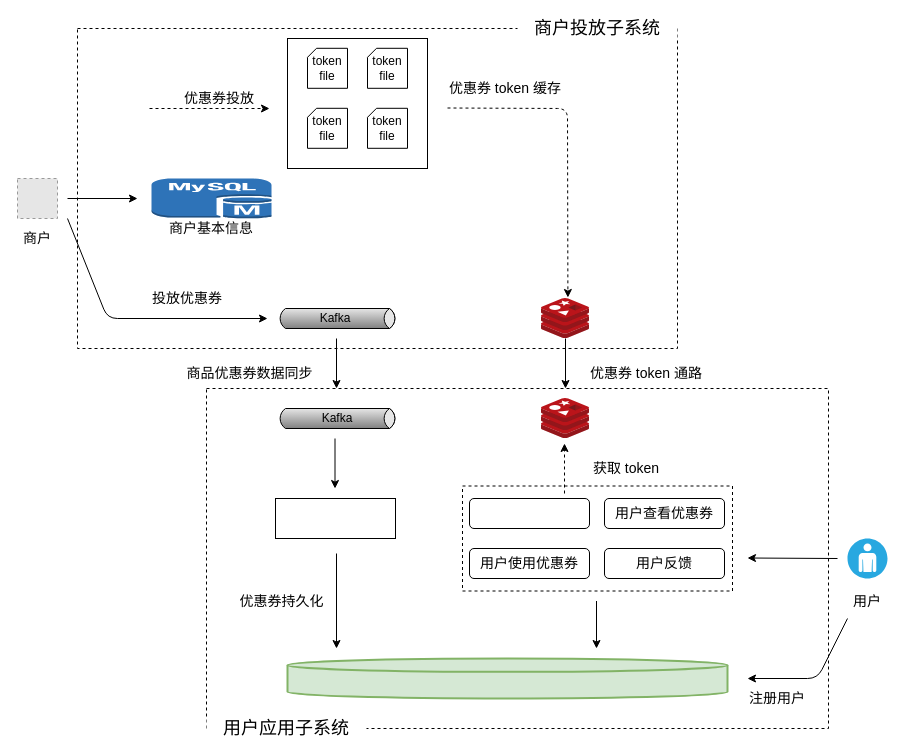
The diagram is 905 pixels wide and 756 high, and some of its shapes have lost their labels. Grey dashed boxes stand in for pictures. The box of each missing label's shape, as (x1, y1, x2, y2) in pixels:
HBase: (286, 657, 728, 699)
优惠券库存功能: (274, 498, 396, 538)
用户领取优惠券: (468, 498, 590, 528)
